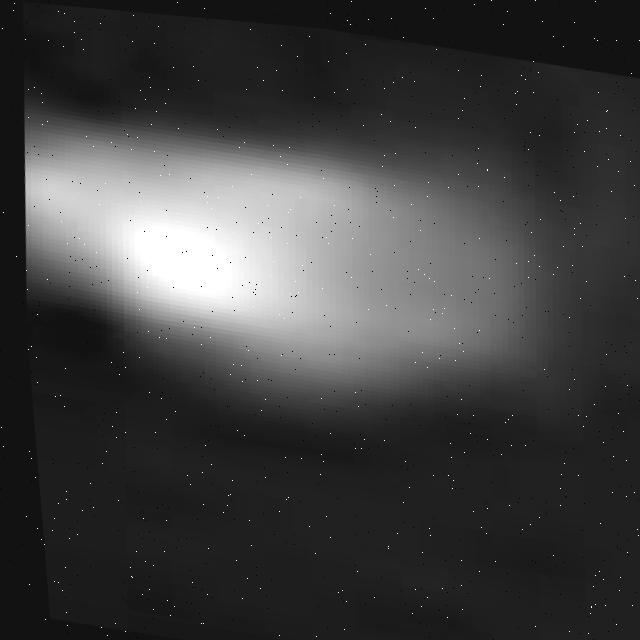person: (5, 64, 540, 441)
